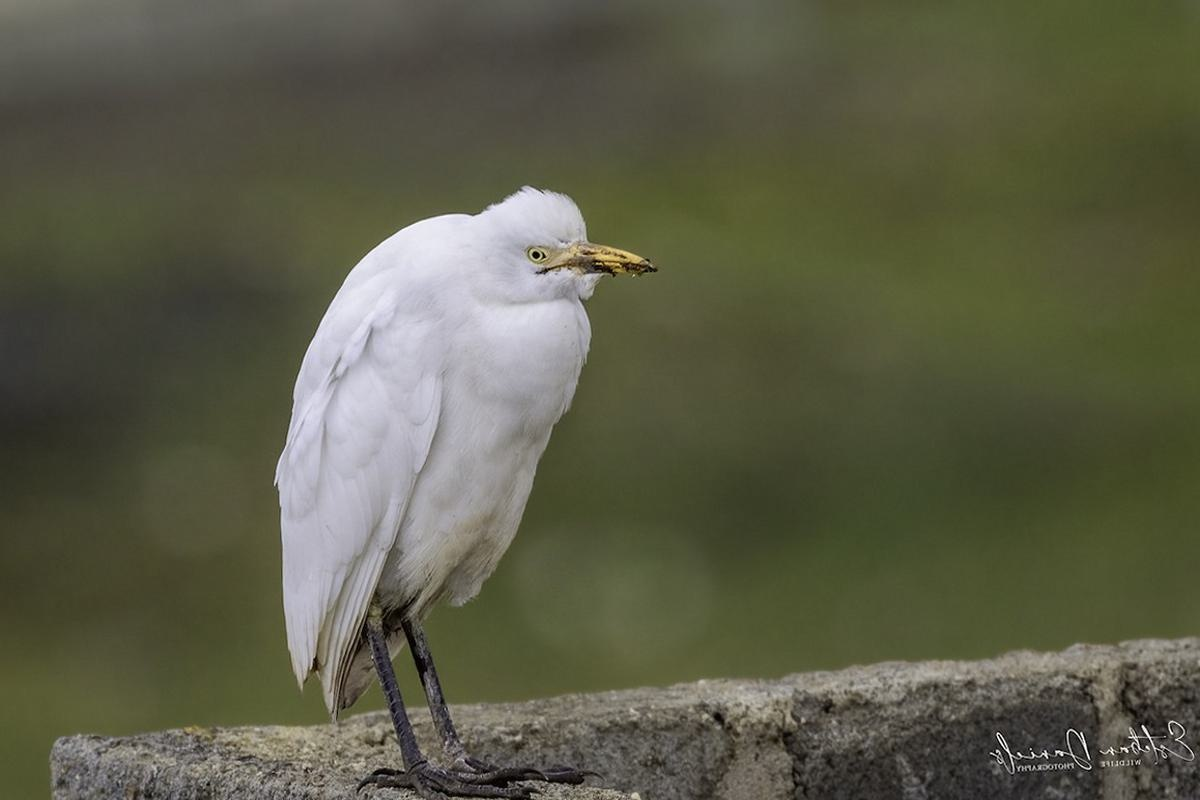egret: (255, 178, 660, 771)
